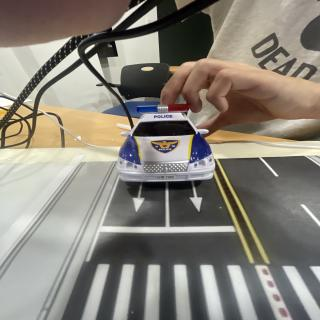Police_car: (117, 104, 215, 182)
